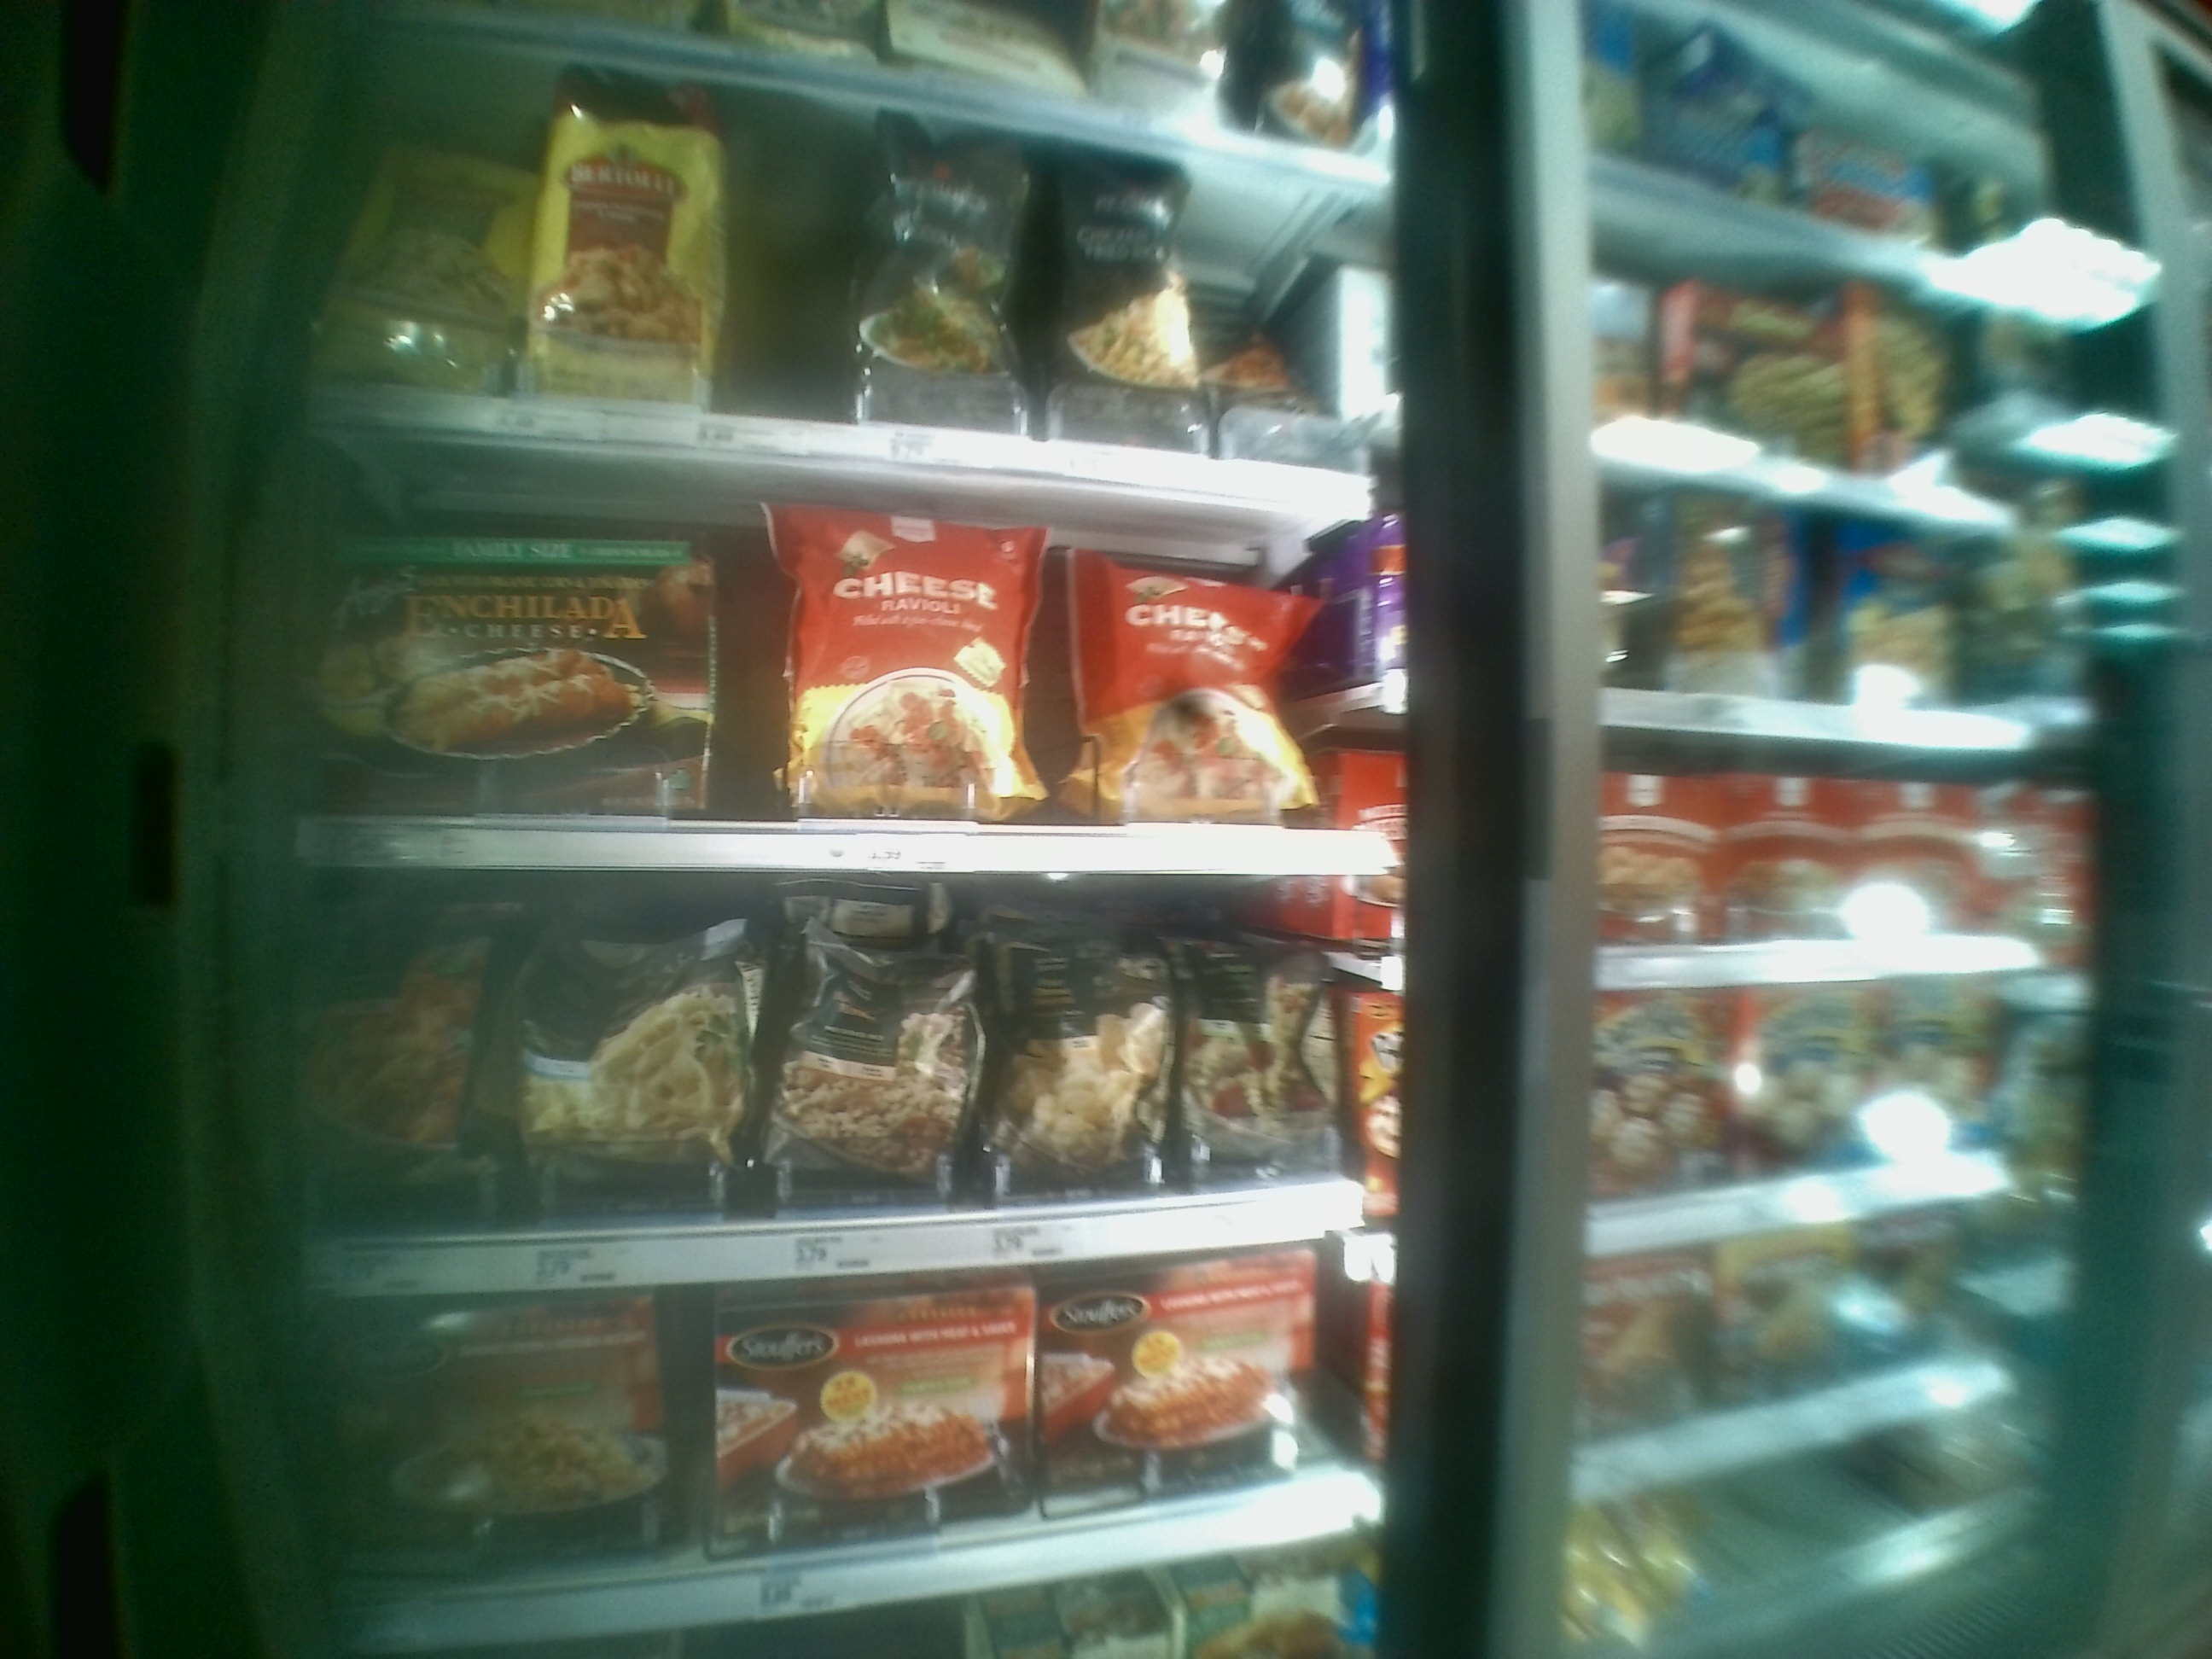shelf: (308, 457, 1362, 875), (296, 875, 1372, 1256)
